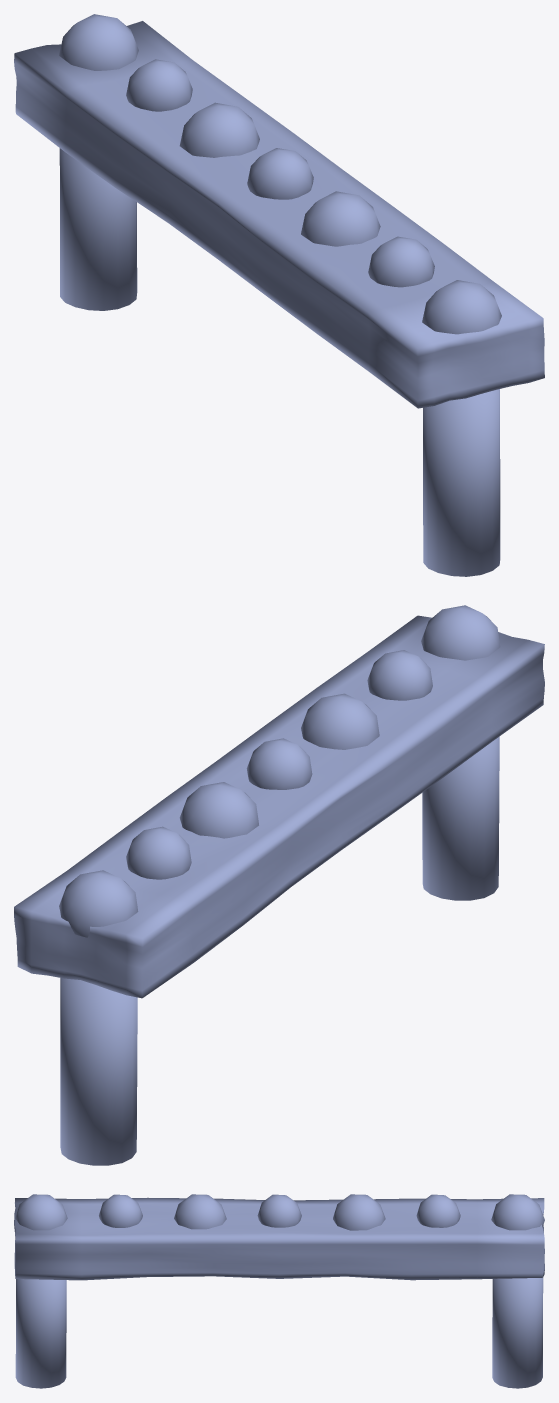
File: OBS_CloudArch_Low.fbx
The picture shows the model from 3 angles, top to bottom: view 1: azimuth 30°, elevation 25°; view 2: azimuth 150°, elevation 25°; view 3: azimuth 270°, elevation 25°; orthographic projection. The views are drawn at different scales.
Visible parts, largest first — view 1: OBS_CloudArch_Low; view 2: OBS_CloudArch_Low; view 3: OBS_CloudArch_Low.
Part boxes in pixels (x1,y1,x2,y2): OBS_CloudArch_Low: [14, 14, 544, 576]; OBS_CloudArch_Low: [14, 605, 544, 1165]; OBS_CloudArch_Low: [14, 1194, 544, 1388].
Bounding box in the file's own units: 1.25 × 2.53 × 6.69.
